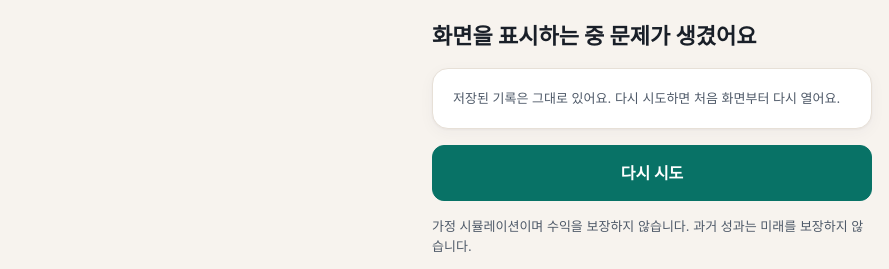
Test: AppErrorBoundary › 다시 시도하면 복구된 자식을 렌더
This screenshot has width=889, height=269.
Step 1. Click the button "다시 시도" → (652, 173), box [432,145,872,201]
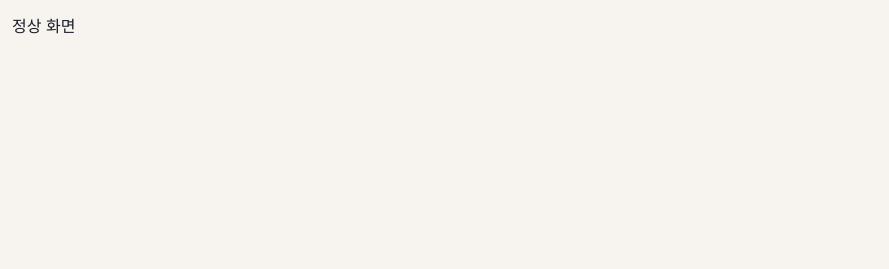
Result: the text "정상 화면" is shown at [12,16,75,36]
Result: the message is gone
